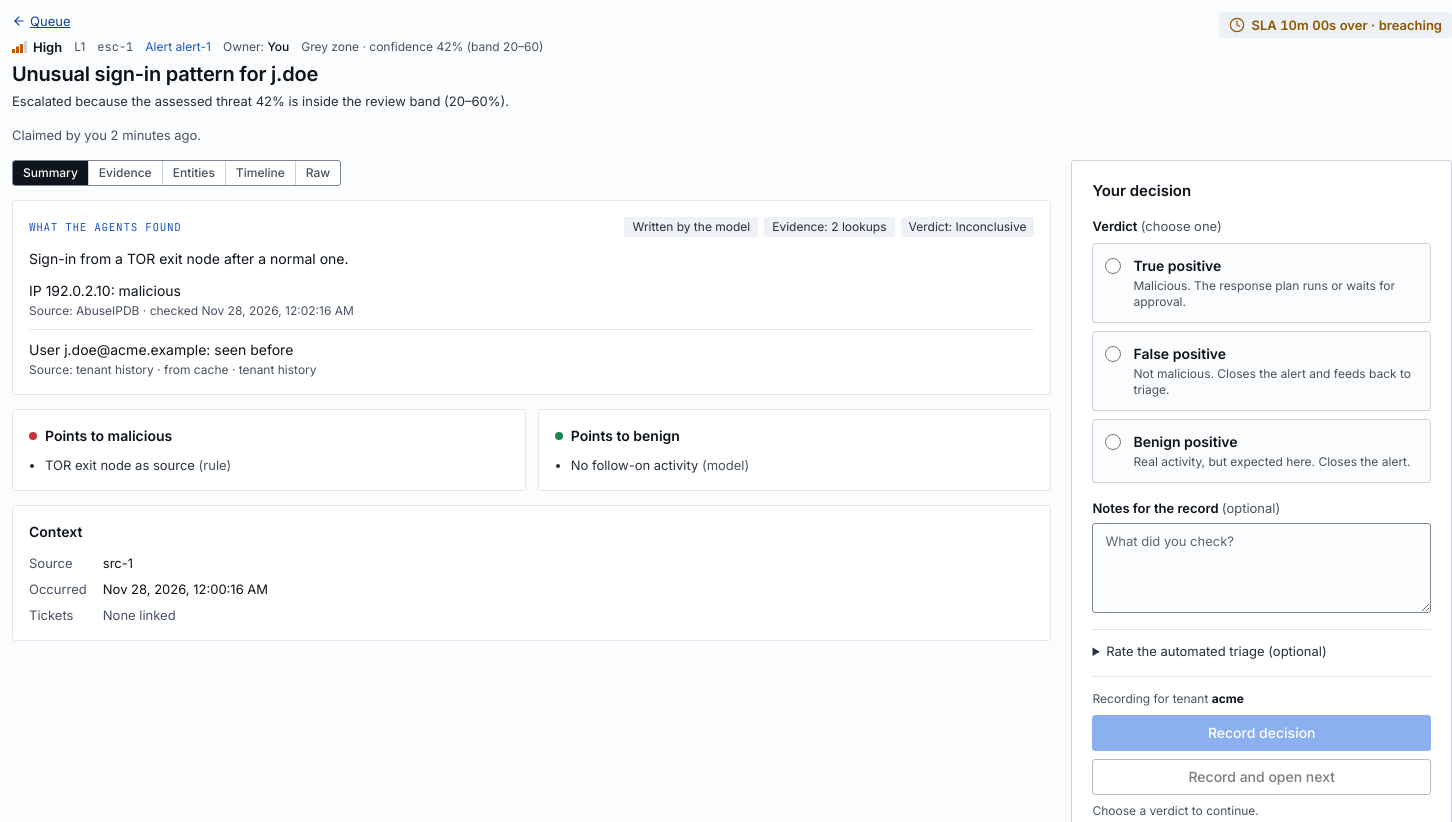
Test: decision form › shows other API errors in the form
Expected: the heading "Unusual sign-in pattern for j.doe" is shown, [12,62,318,86]
Click the radio button labelled "False positive": (1114, 354) [1106,346,1122,362]
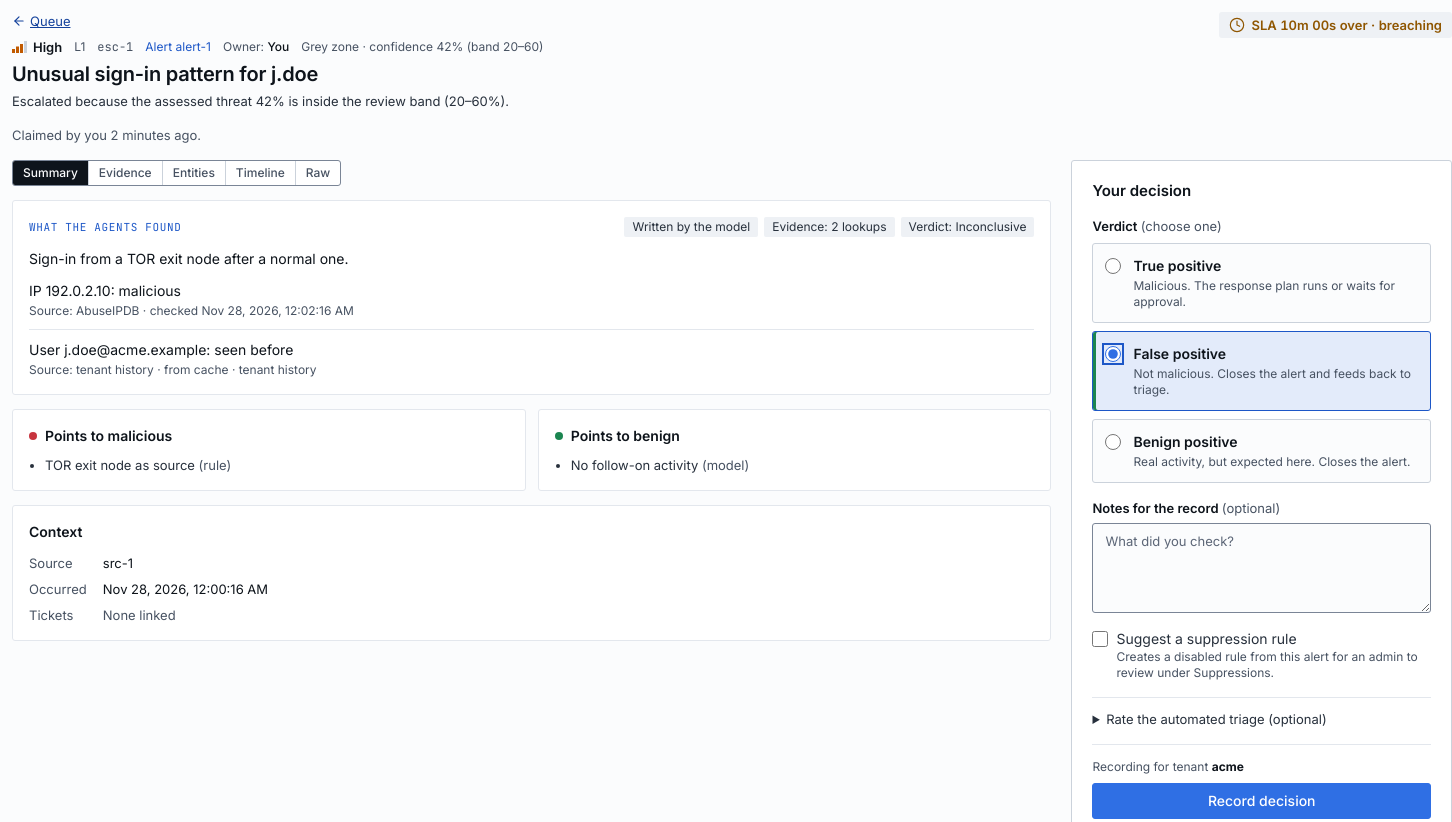
Click the button "Record decision": (1262, 801) [1092,783,1431,819]
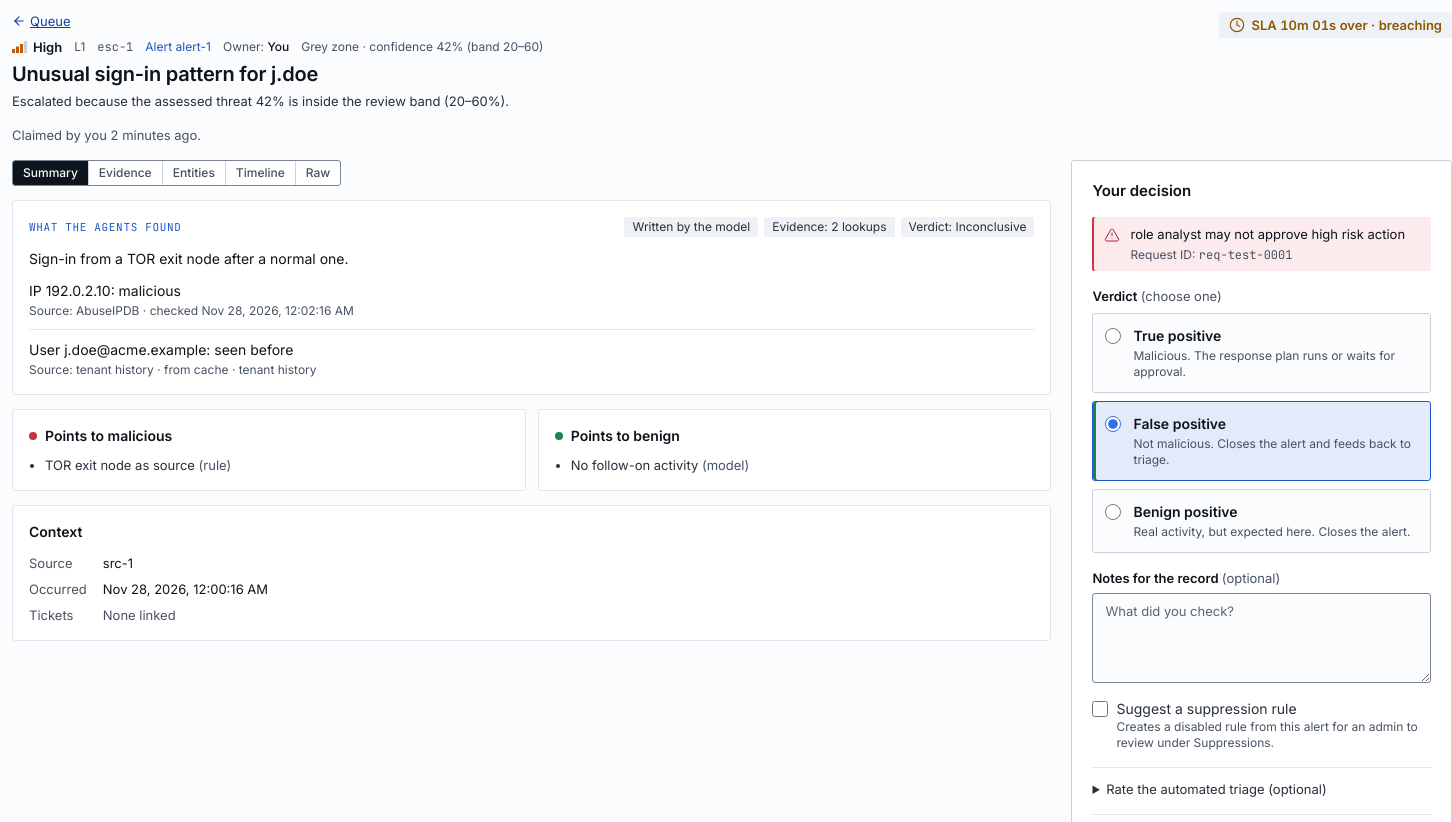
Result: the text "role analyst may not approve high risk action" is shown at [1130,225,1419,243]
